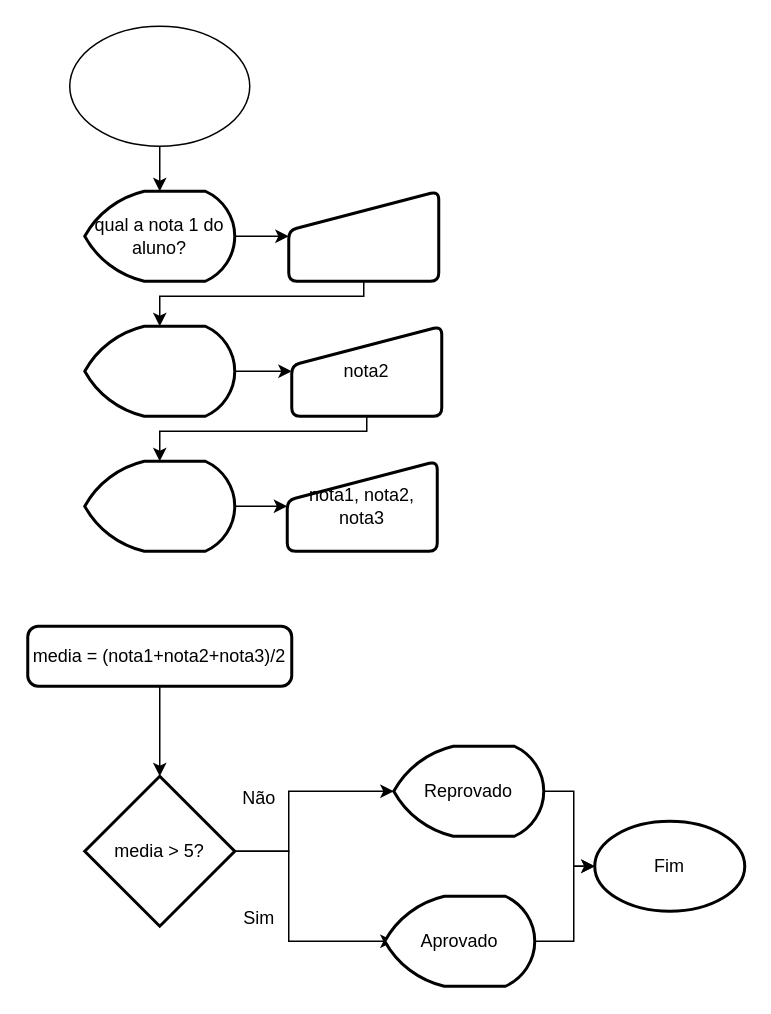
Some shapes in this 771 by 1014 pixel diagram are drawn without their labels. Each missing label, with the box of its shape:
Início: (68, 25, 250, 146)
nota1: (286, 189, 440, 282)
qual a nota 2 do aluno?: (82, 324, 236, 417)
qual a nota 3 do aluno?: (82, 459, 236, 552)
